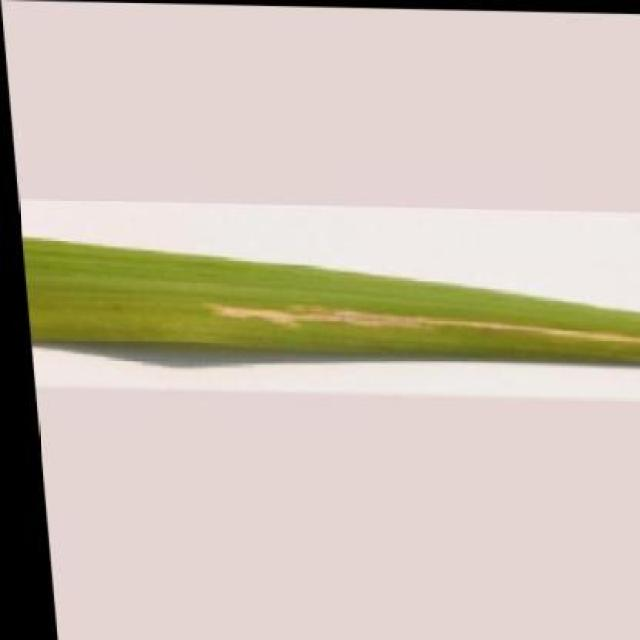Brown_Spot: (15, 234, 640, 366)
